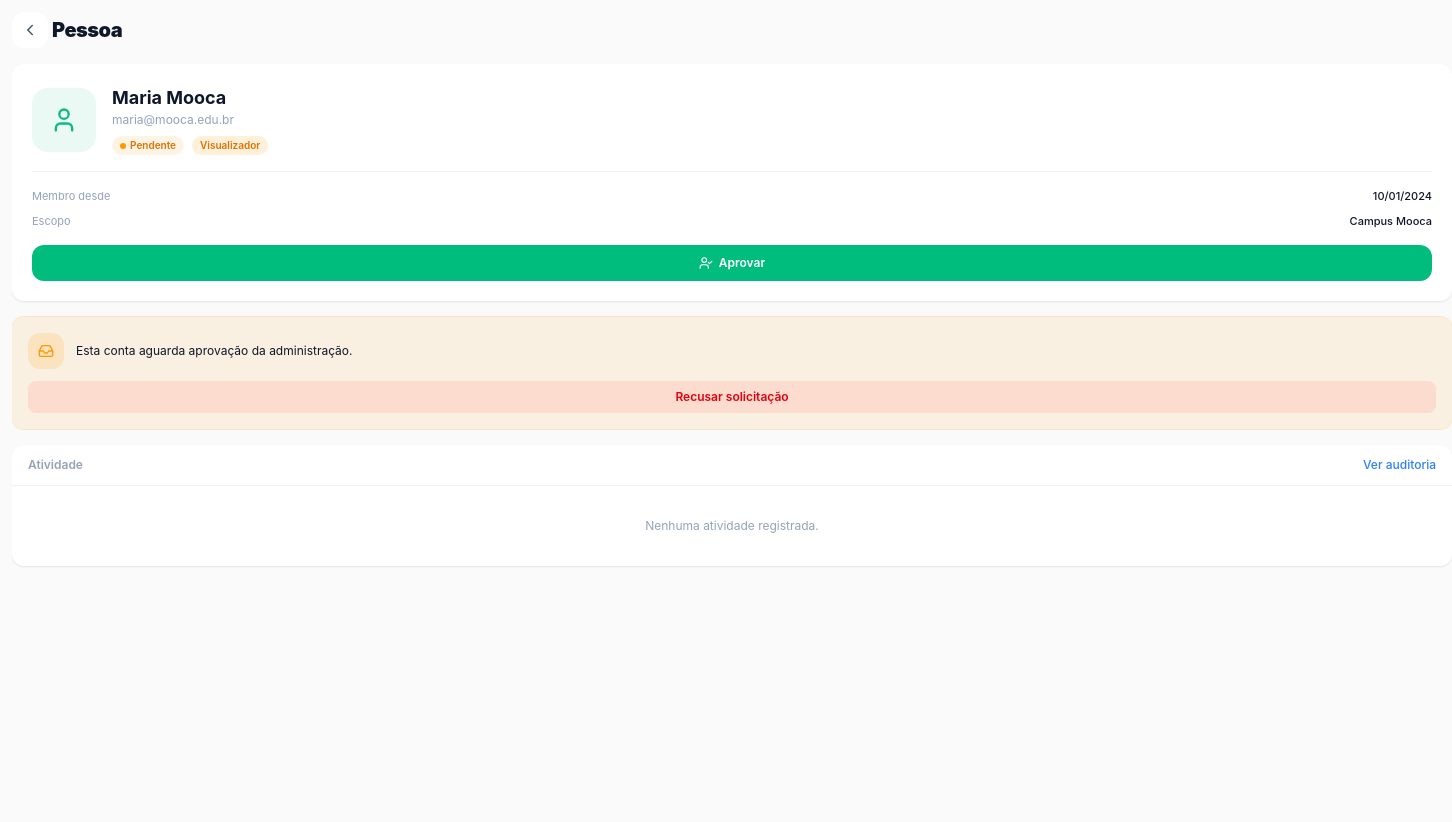
UserDetailPage › aprova a conta direto (sem campus/cargo): approveUser recebe só o id
The image size is (1452, 822).
Click the button "Aprovar": (732, 263) x1=32 y1=245 x2=1432 y2=281
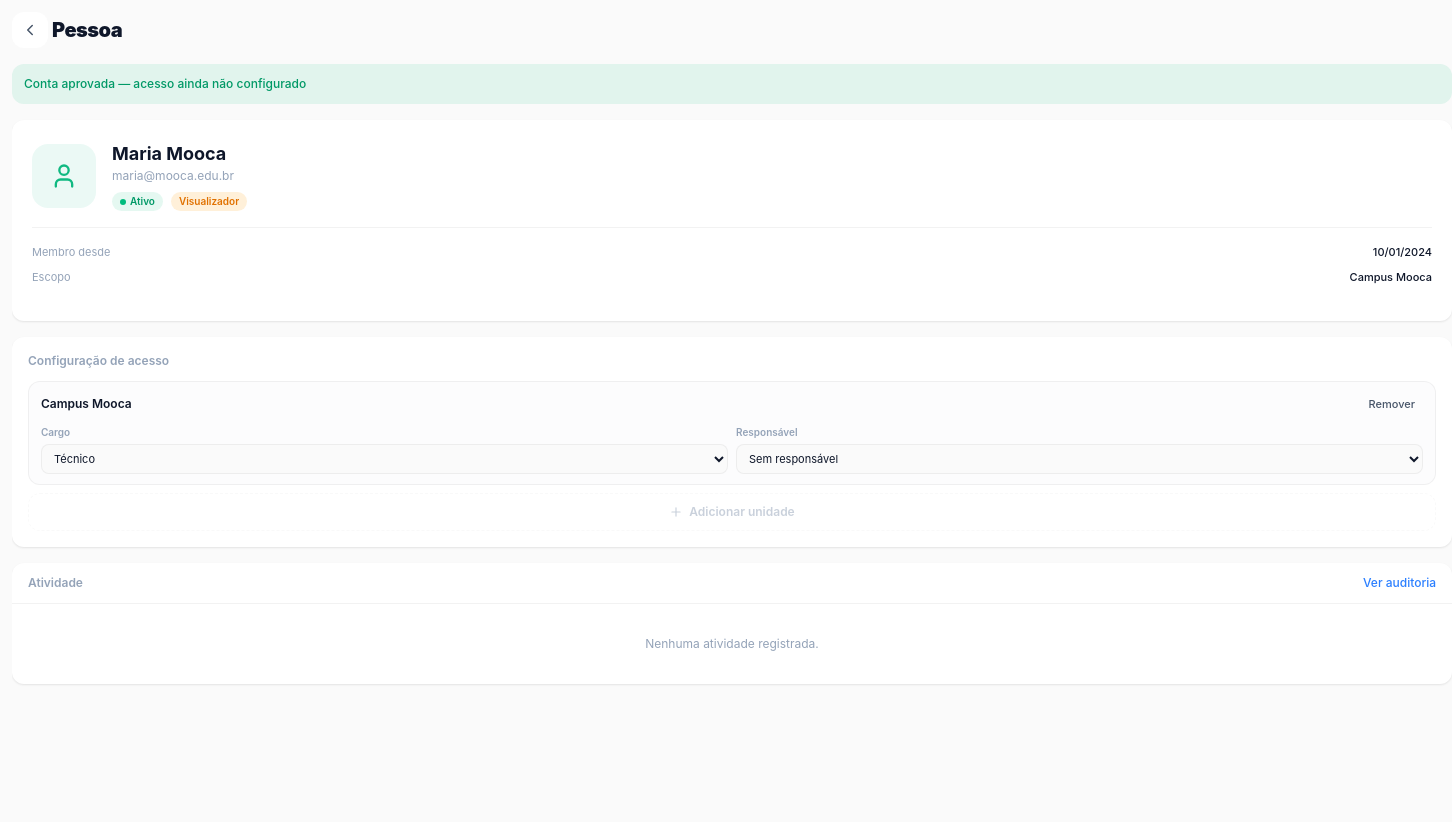
Expected: the text "Conta aprovada — acesso ainda não configurado" is shown, x1=12 y1=64 x2=1451 y2=104
